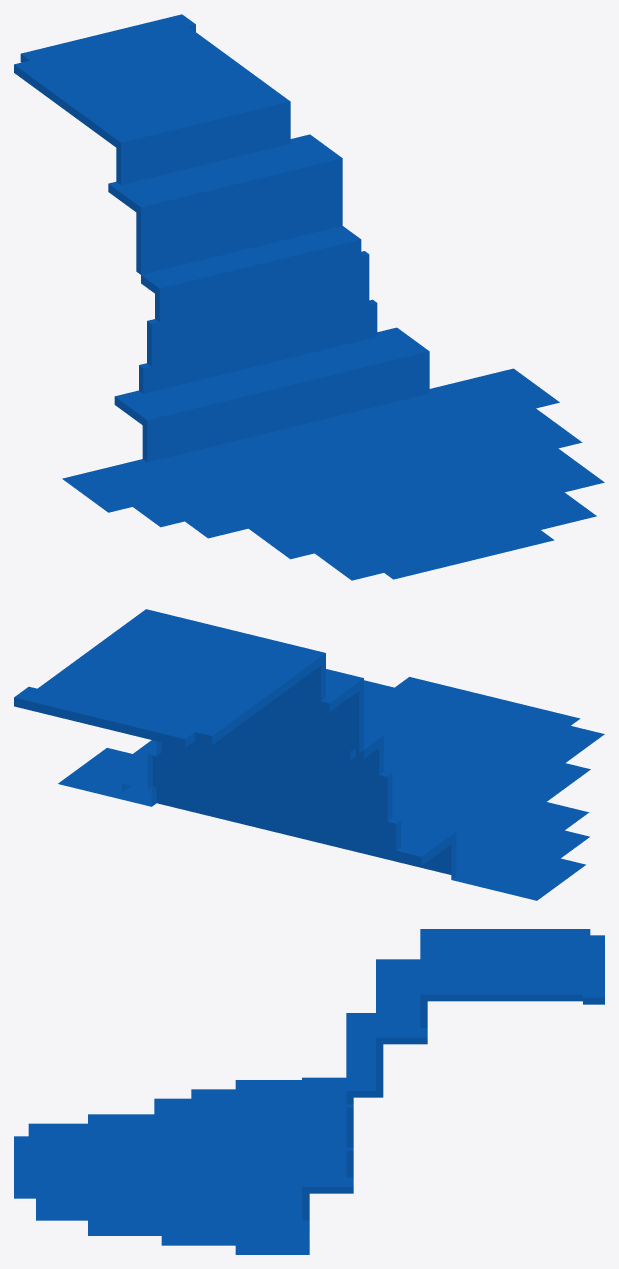
Rendered from new wta.glb.
3 views of the same model, one above another, from view 1: azimuth 30°, elevation 25°; view 2: azimuth 150°, elevation 25°; view 3: azimuth 270°, elevation 25° (orthographic). The views are drawn at different scales.
Visible parts, largest first — view 1: model_0.048; view 2: model_0.048; view 3: model_0.048.
Part boxes in pixels (<box>): model_0.048: <box>14,14,604,580</box>; model_0.048: <box>14,609,604,900</box>; model_0.048: <box>14,929,604,1254</box>.
Bounding box in the file's own units: 56 × 30 × 80.
Materials: 1 (1 with a texture image).
